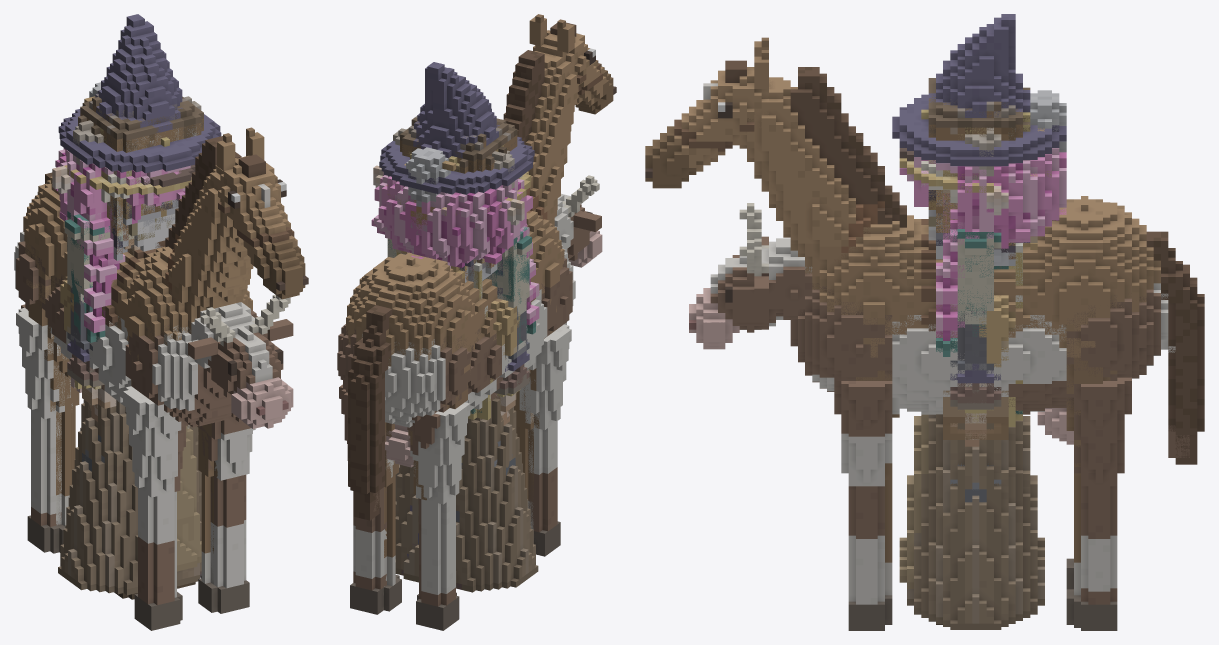
File: cast.glb
3 views of the same model, side by side, from view 1: azimuth 30°, elevation 25°; view 2: azimuth 150°, elevation 25°; view 3: azimuth 270°, elevation 25° (orthographic). The views are drawn at different scales.
Visible parts, largest first — view 1: thorne_skirt__mesh, cow_body__mesh, halden_hat__mesh, cow_upFR__mesh, cow_head__mesh, horse_neck__mesh, horse_body__mesh, horse_head__mesh, cow_upFL__mesh, cow_upBR__mesh, maron_head__mesh, dorn_head__mesh (+18 smaller); view 2: thorne_skirt__mesh, horse_body__mesh, cow_body__mesh, maron_head__mesh, cow_upBR__mesh, halden_hat__mesh, horse_neck__mesh, horse_tail__mesh, cow_upFR__mesh, horse_head__mesh, cow_upBL__mesh, cow_head__mesh (+14 smaller); view 3: horse_body__mesh, thorne_skirt__mesh, cow_body__mesh, horse_neck__mesh, halden_hat__mesh, cow_upFL__mesh, cow_upBL__mesh, cow_head__mesh, horse_head__mesh, maron_head__mesh, horse_tail__mesh, father_uArmL__mesh (+14 smaller).
Boxes of the visible parts, bbox=[...] form: thorne_skirt__mesh: bbox=[58, 399, 201, 595]; cow_body__mesh: bbox=[14, 231, 257, 427]; halden_hat__mesh: bbox=[58, 14, 221, 173]; cow_upFR__mesh: bbox=[123, 384, 185, 630]; cow_head__mesh: bbox=[188, 294, 293, 428]; horse_neck__mesh: bbox=[162, 136, 253, 322]; horse_body__mesh: bbox=[23, 176, 252, 345]; horse_head__mesh: bbox=[217, 127, 308, 299]; cow_upFL__mesh: bbox=[198, 413, 255, 613]; cow_upBR__mesh: bbox=[16, 304, 72, 552]; maron_head__mesh: bbox=[53, 148, 195, 239]; dorn_head__mesh: bbox=[78, 90, 203, 151]; thorne_skirt__mesh: bbox=[395, 398, 538, 592]; horse_body__mesh: bbox=[346, 209, 564, 366]; cow_body__mesh: bbox=[337, 245, 575, 467]; maron_head__mesh: bbox=[371, 171, 532, 270]; cow_upBR__mesh: bbox=[407, 400, 470, 630]; halden_hat__mesh: bbox=[379, 62, 534, 194]; horse_neck__mesh: bbox=[503, 50, 577, 226]; horse_tail__mesh: bbox=[348, 305, 392, 520]; cow_upFR__mesh: bbox=[519, 322, 571, 556]; horse_head__mesh: bbox=[529, 14, 616, 114]; cow_upBL__mesh: bbox=[339, 384, 394, 614]; cow_head__mesh: bbox=[554, 175, 602, 267]; horse_body__mesh: bbox=[812, 196, 1160, 341]; thorne_skirt__mesh: bbox=[899, 414, 1044, 629]; cow_body__mesh: bbox=[790, 283, 1168, 444]; horse_neck__mesh: bbox=[739, 67, 906, 276]; halden_hat__mesh: bbox=[892, 14, 1066, 166]; cow_upFL__mesh: bbox=[834, 381, 899, 630]; cow_upBL__mesh: bbox=[1066, 377, 1131, 630]; cow_head__mesh: bbox=[689, 203, 813, 349]; horse_head__mesh: bbox=[645, 37, 775, 188]; maron_head__mesh: bbox=[899, 148, 1066, 248]; horse_tail__mesh: bbox=[1146, 231, 1204, 464]; father_uArmL__mesh: bbox=[957, 238, 1001, 310].
Bounding box in the file's own units: 0.648 × 2.16 × 1.85.
